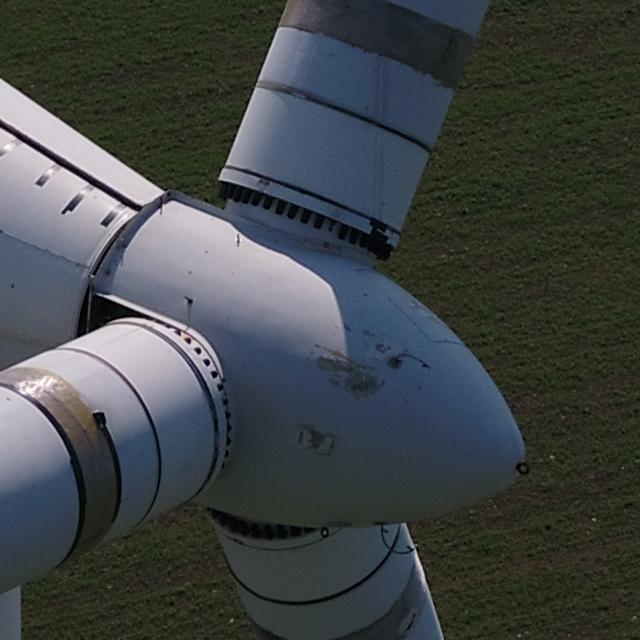damage: (310, 352, 386, 402), (303, 425, 327, 454), (336, 321, 355, 332)
